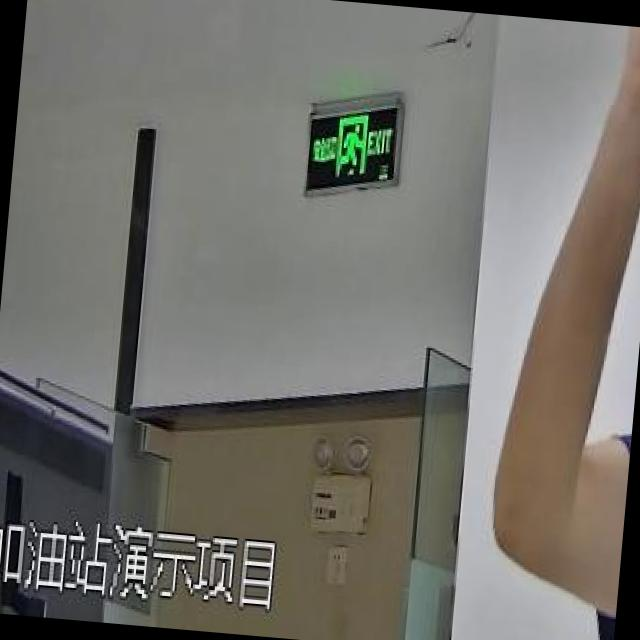Guns: (619, 26, 640, 155)
